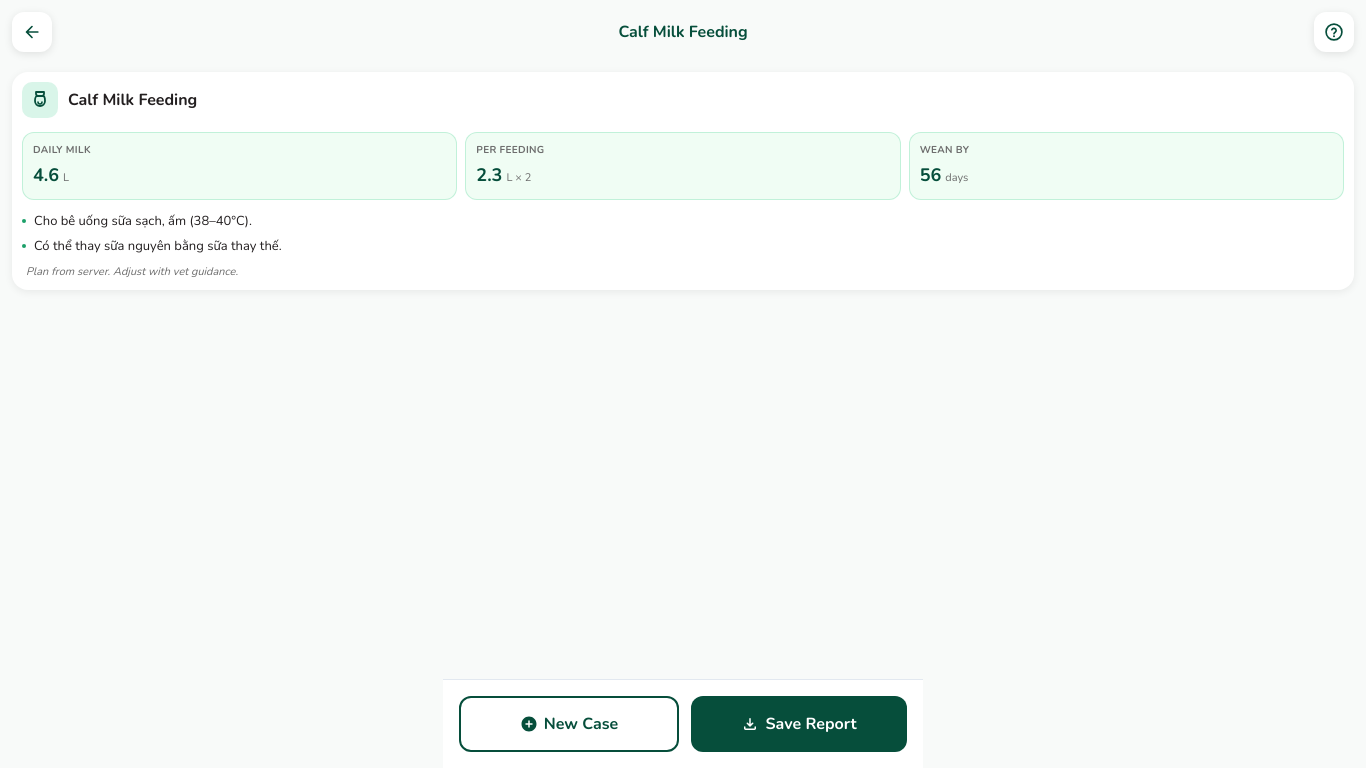
it: Calf milk plan — the backend's answer (W13) › while the PDF is still being made, Get PDF asks for it
This screenshot has width=1366, height=768.
Click the button "Save Report": [799, 724] box [691, 696, 907, 752]
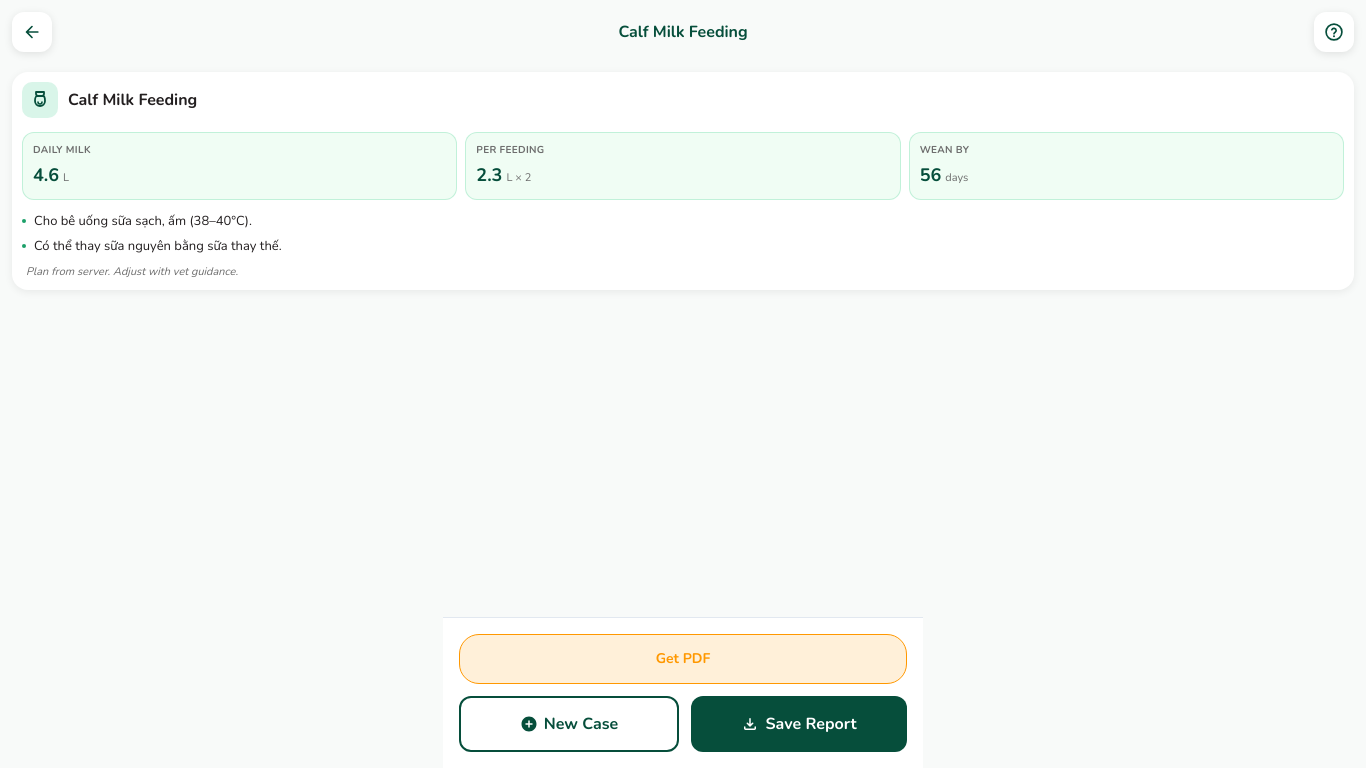
Click the button "Get PDF": [683, 659] box [459, 634, 907, 684]
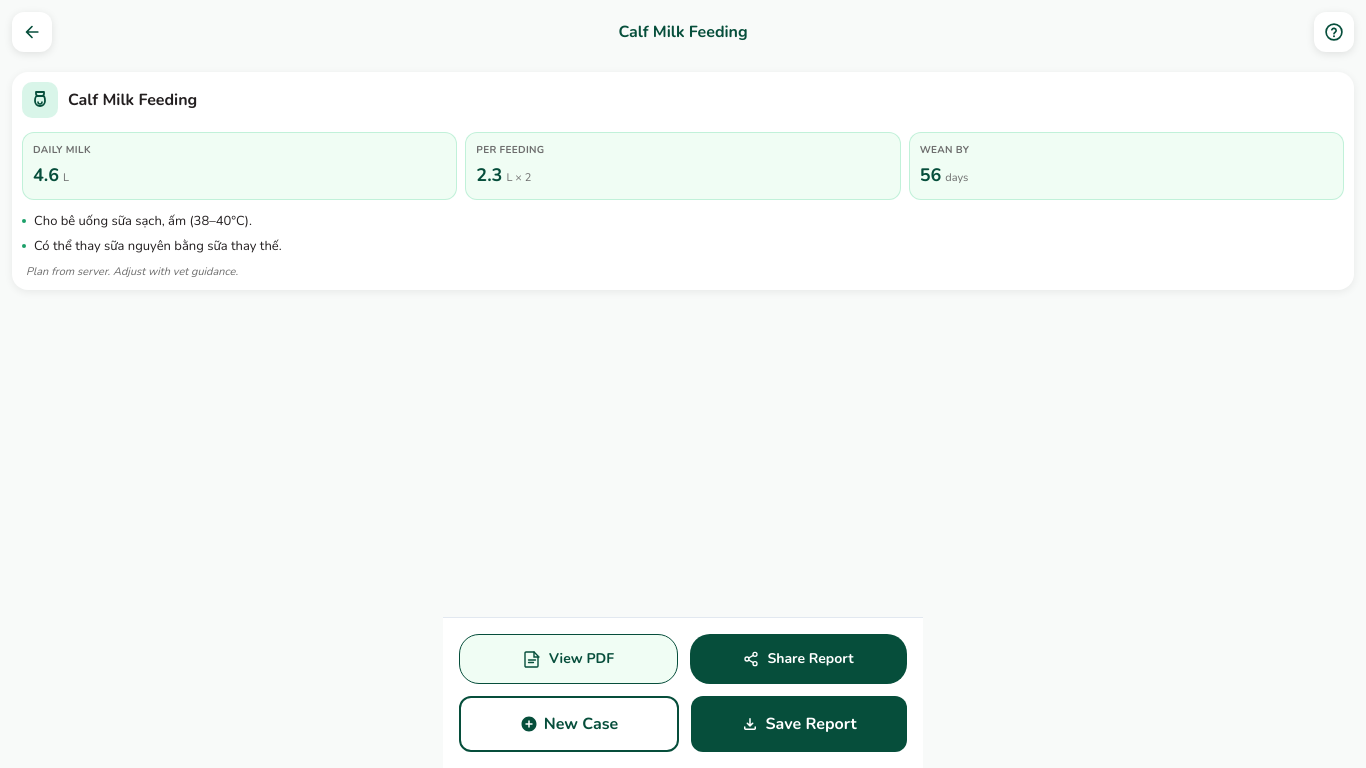
expect the button "View PDF" is shown: met, box [459, 634, 678, 684]
